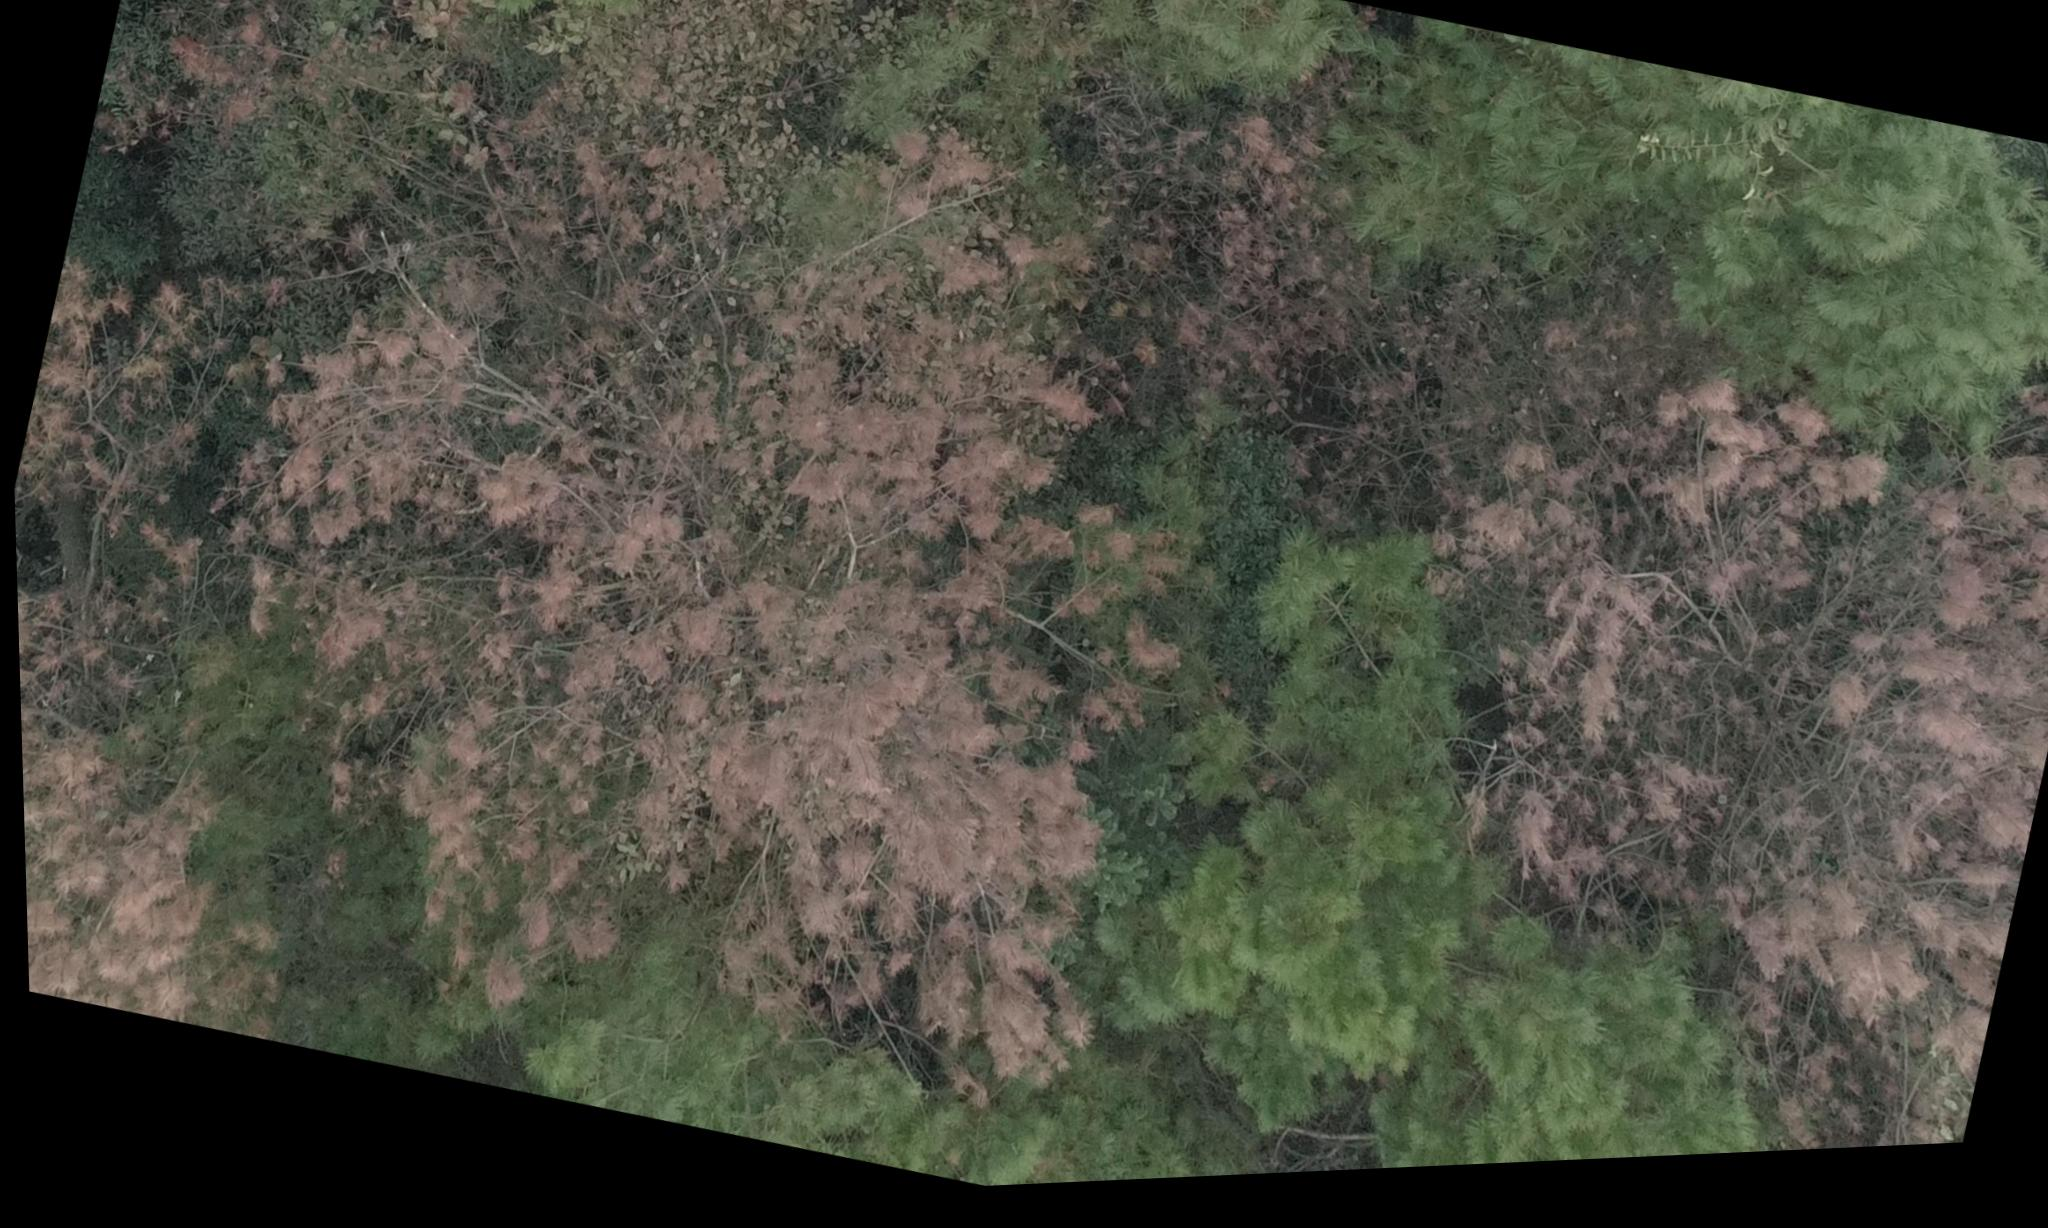heavy: (170, 47, 1273, 1140), (1310, 301, 2048, 1183), (6, 260, 313, 1013)
